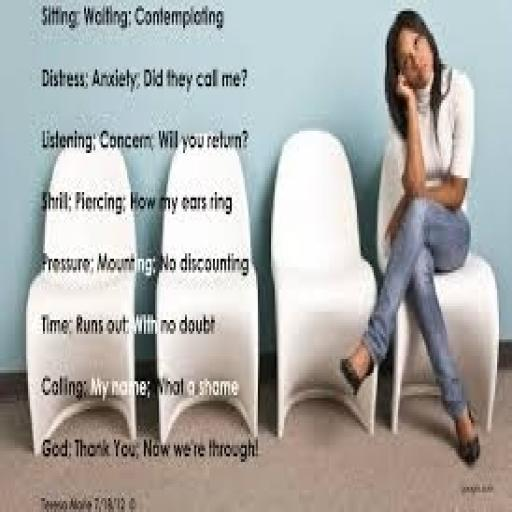sitting: (338, 6, 482, 464)
